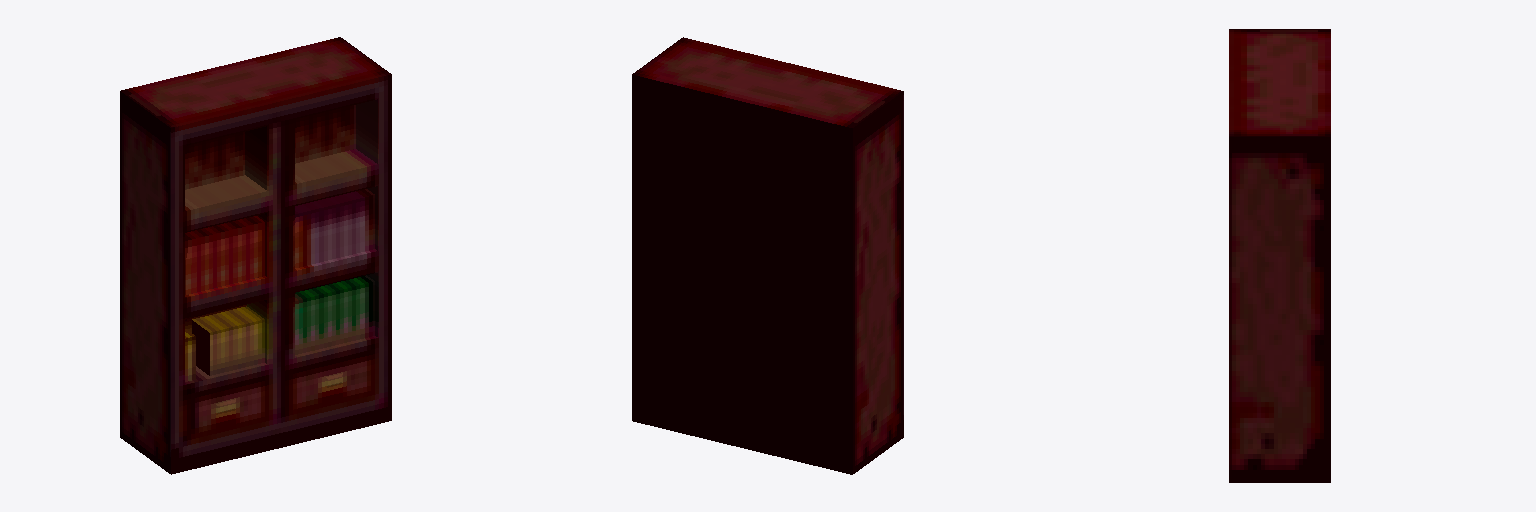
3 renders of one model, left to right at view 1: azimuth 30°, elevation 25°; view 2: azimuth 150°, elevation 25°; view 3: azimuth 270°, elevation 25°, orthographic.
Visible parts, largest first — view 1: Cube; view 2: Cube; view 3: Cube.
Part boxes in pixels (left/top/right/bottom): Cube: left=120, top=37, right=391, bottom=474; Cube: left=632, top=37, right=903, bottom=474; Cube: left=1229, top=29, right=1330, bottom=482.
Size of the model in its own units: 4 by 6 by 1.61.
Materials: 1 (1 with a texture image).